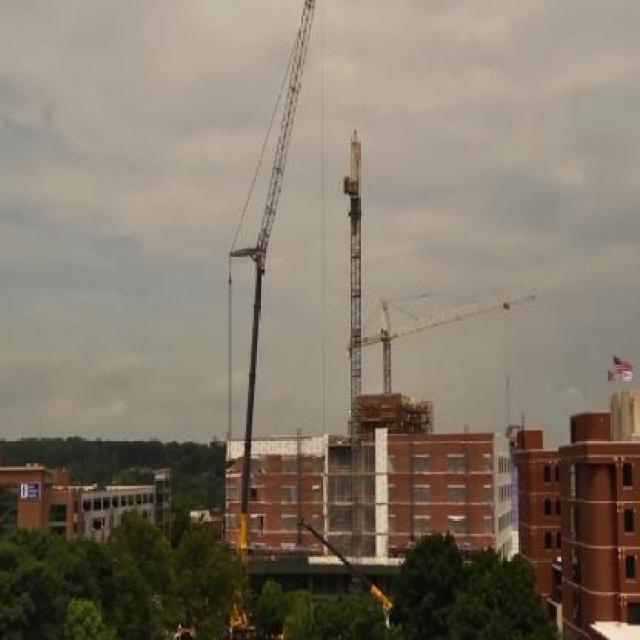Mobile Crane: (178, 1, 316, 639)
